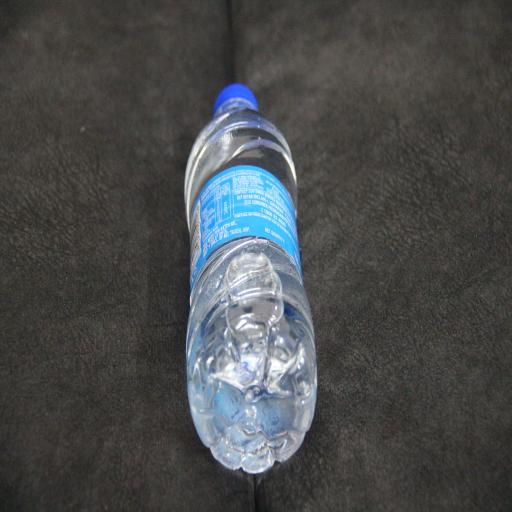Aquafina: (185, 84, 317, 472)
